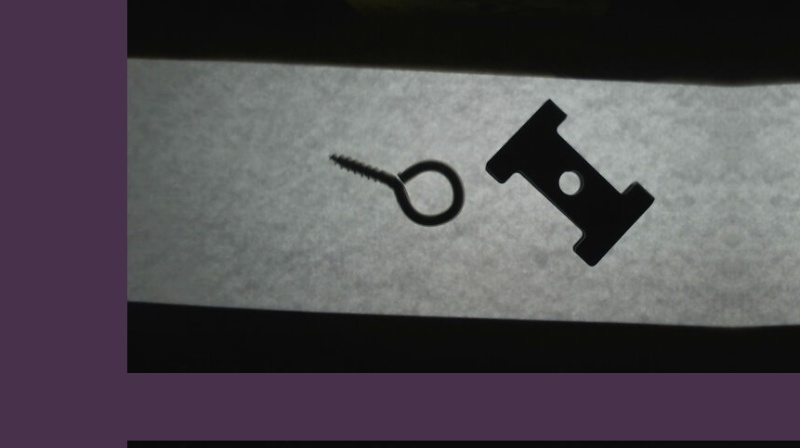O001: (327, 146, 469, 227)
O002: (485, 94, 657, 266)
